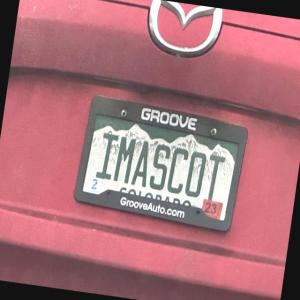Plate: (73, 95, 248, 233)
